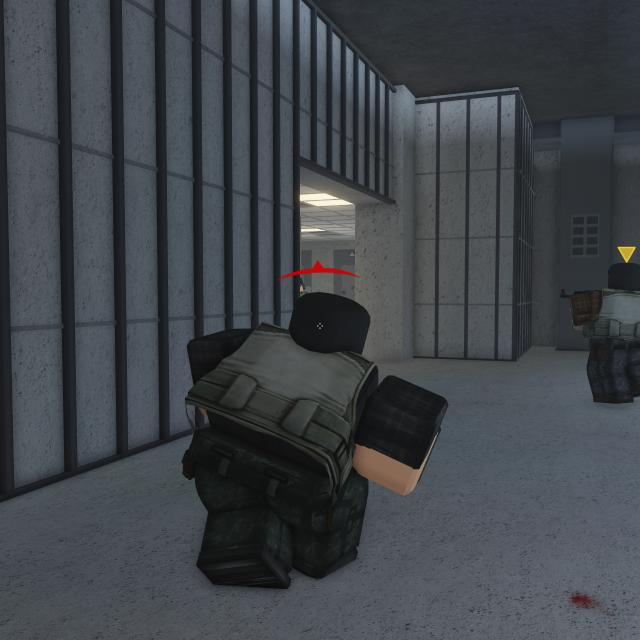Head: (293, 296, 372, 356), (609, 264, 640, 292)
Player: (181, 291, 448, 590), (571, 263, 640, 403)
